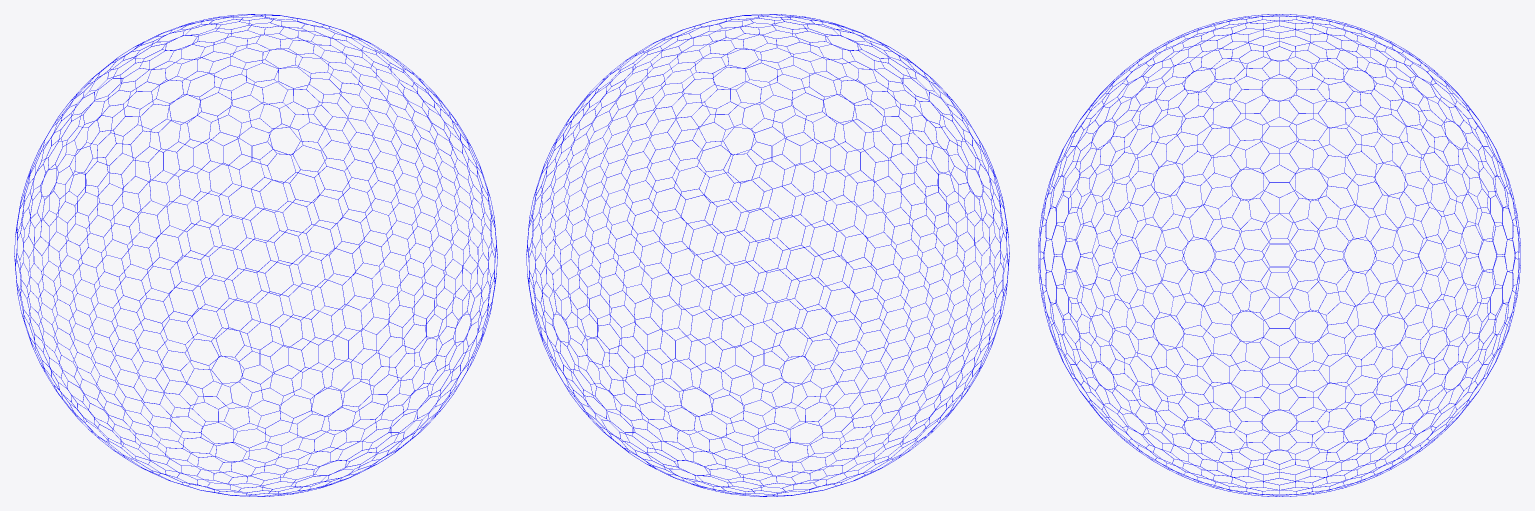
File: GolfBall.glb
The picture shows the model from 3 angles, left to right: view 1: azimuth 30°, elevation 25°; view 2: azimuth 150°, elevation 25°; view 3: azimuth 270°, elevation 25°; orthographic projection.
Bounding box in the file's own units: 2 × 2 × 2.
